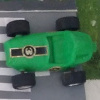carro: (7, 16, 94, 85)
